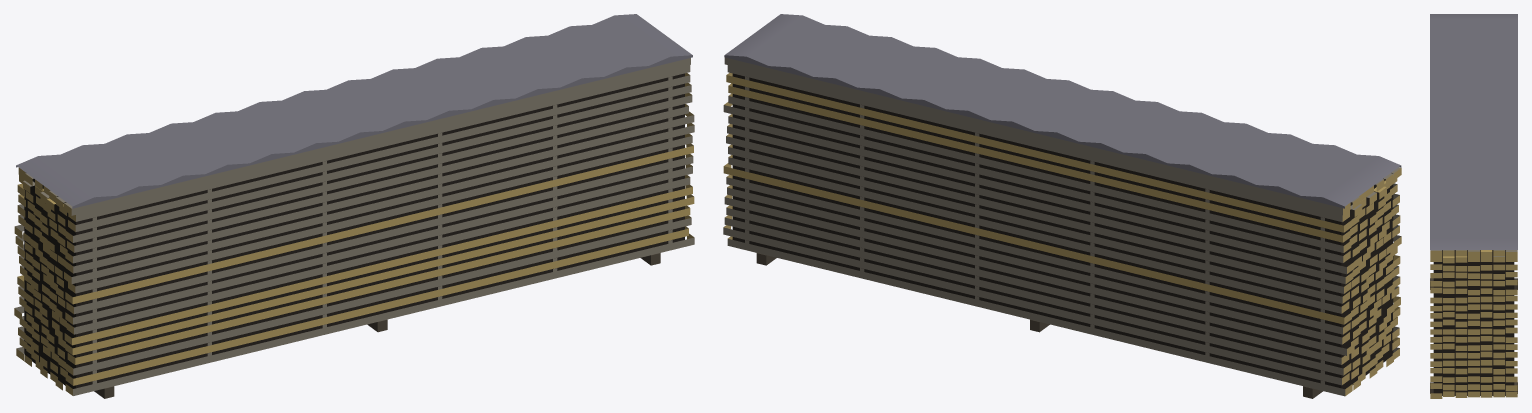
Rendered from boards.glb.
The picture shows the model from 3 angles, left to right: view 1: azimuth 30°, elevation 25°; view 2: azimuth 150°, elevation 25°; view 3: azimuth 270°, elevation 25°; orthographic projection. The views are drawn at different scales.
Parts seen in each view (by area): view 1: Boards; view 2: Boards; view 3: Boards.
Part boxes in pixels (box(x1,y1,x2,y2)): Boards: box(14, 14, 694, 398); Boards: box(723, 14, 1401, 398); Boards: box(1430, 14, 1517, 398).
Bounding box in the file's own units: 6.4 × 2 × 1.
